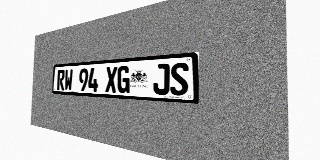4: (88, 68, 98, 92)
9: (79, 68, 88, 91)
G: (117, 66, 130, 93)
J: (153, 63, 170, 95)
R: (57, 69, 65, 90)
S: (170, 62, 189, 96)
W: (64, 69, 73, 91)
X: (105, 66, 117, 93)
